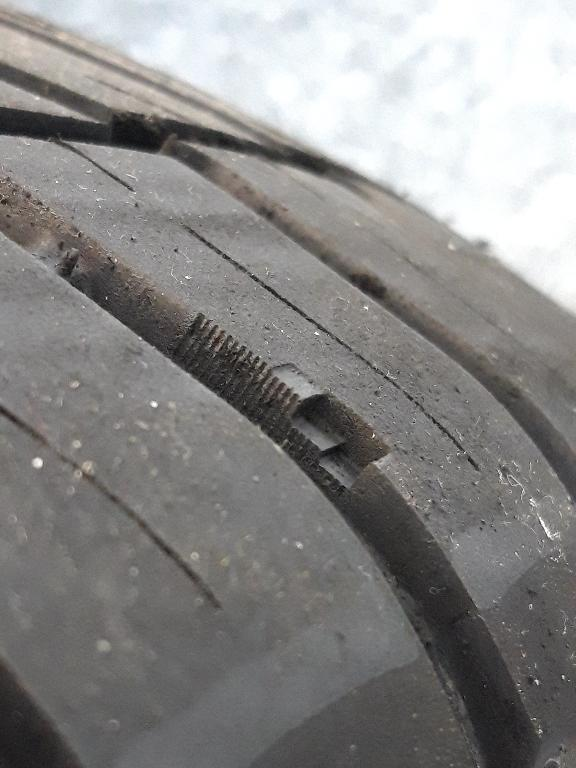temoin:50: (245, 360, 400, 506)
